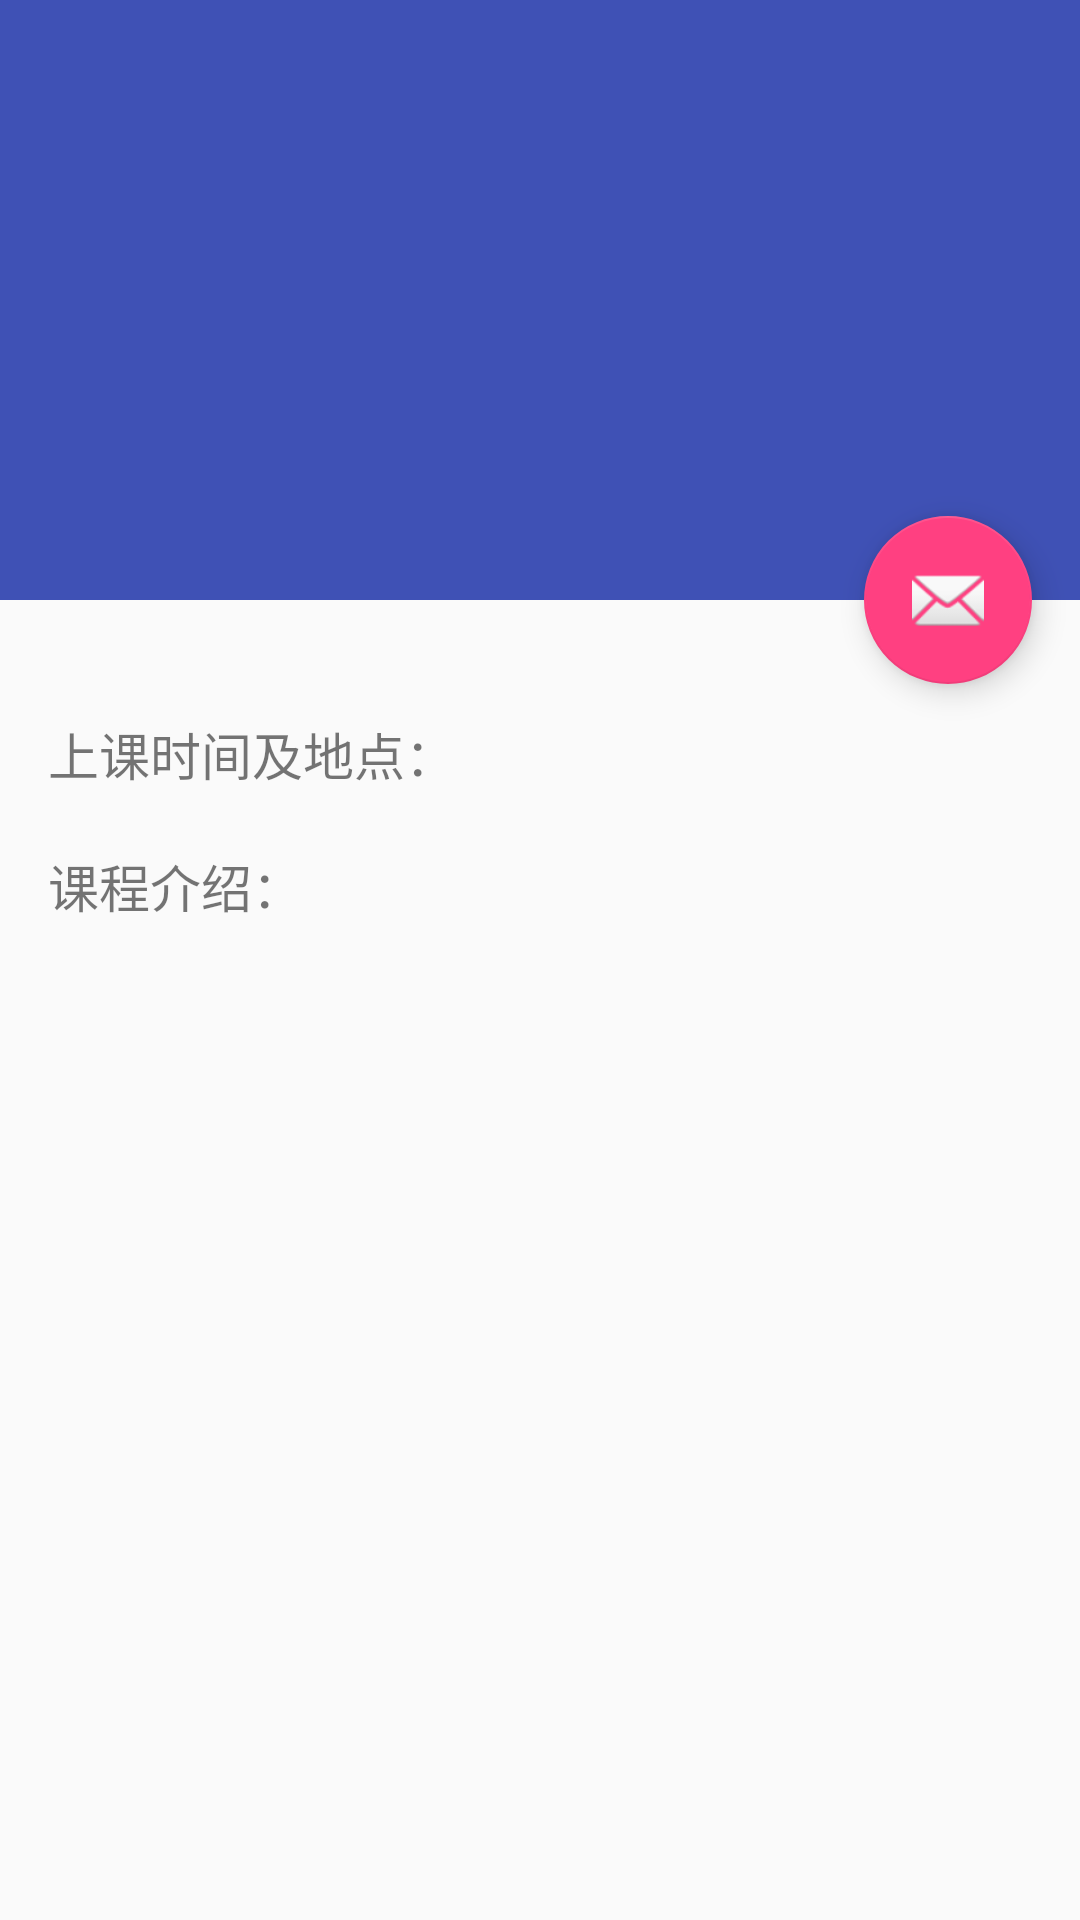

Icon click points for this 1080 × 1920 phone screenshot, format (x=x, y=y):
email: (x=948, y=600)
